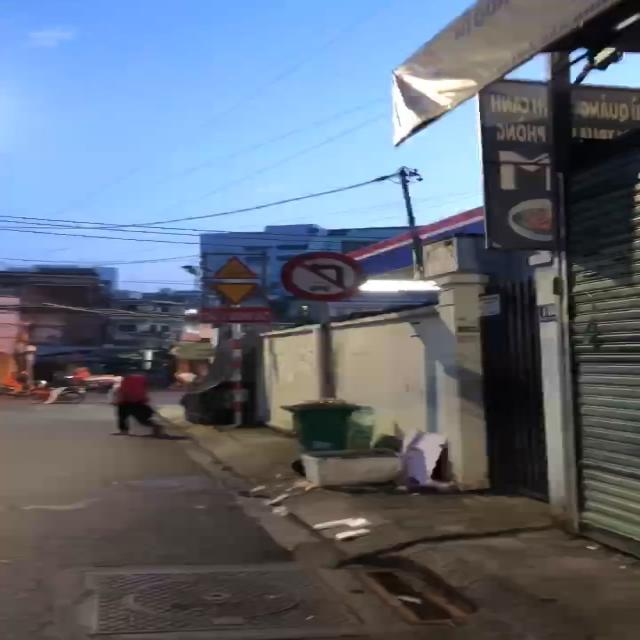Bien bao cam xe o to re trai: (278, 250, 376, 302)
Bien bao giao nhau voi duong uu tien: (205, 281, 266, 305)
